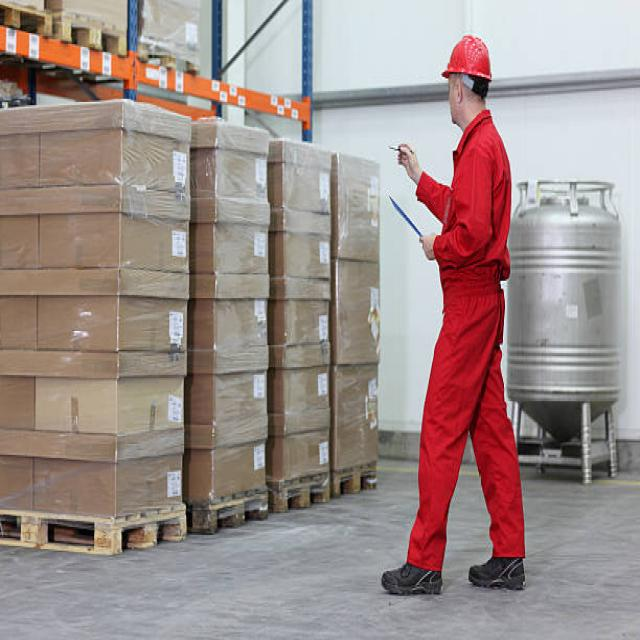Wooden-Pallets: (0, 492, 193, 570), (202, 463, 279, 550), (52, 0, 130, 67), (279, 465, 335, 520), (332, 453, 382, 502)
